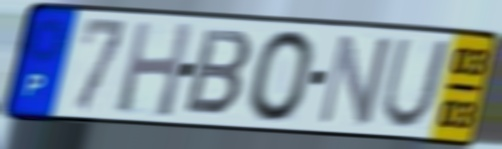7: (77, 14, 130, 116)
B: (180, 25, 256, 119)
H: (113, 18, 196, 121)
N: (313, 30, 396, 128)
O: (245, 27, 319, 126)
U: (377, 36, 454, 132)
